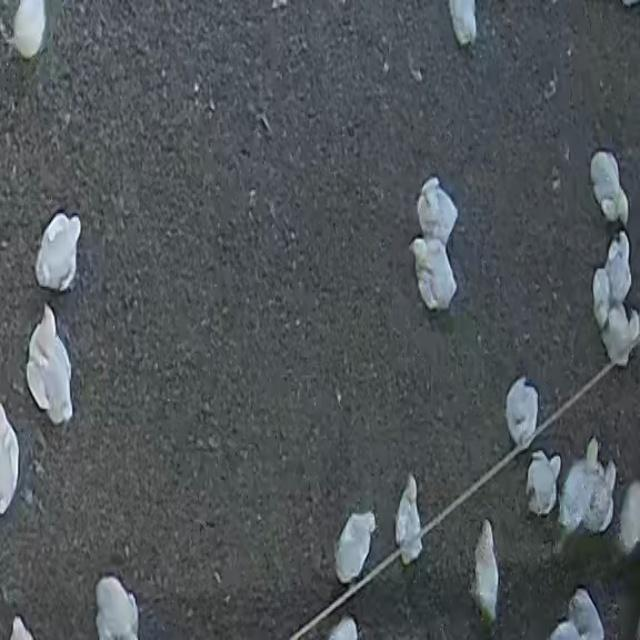chicken: (26, 306, 74, 424), (34, 211, 84, 290), (557, 440, 597, 530), (411, 236, 458, 312), (471, 522, 501, 628), (334, 512, 377, 585), (94, 576, 140, 640), (417, 175, 459, 242), (590, 152, 628, 226), (4, 0, 50, 59), (505, 376, 541, 451), (396, 475, 423, 566), (0, 402, 21, 515), (565, 583, 606, 640), (526, 450, 561, 516), (603, 306, 640, 366), (587, 464, 615, 531), (616, 480, 640, 554), (606, 230, 632, 297), (448, 0, 478, 53), (585, 270, 608, 321), (322, 614, 358, 640)
